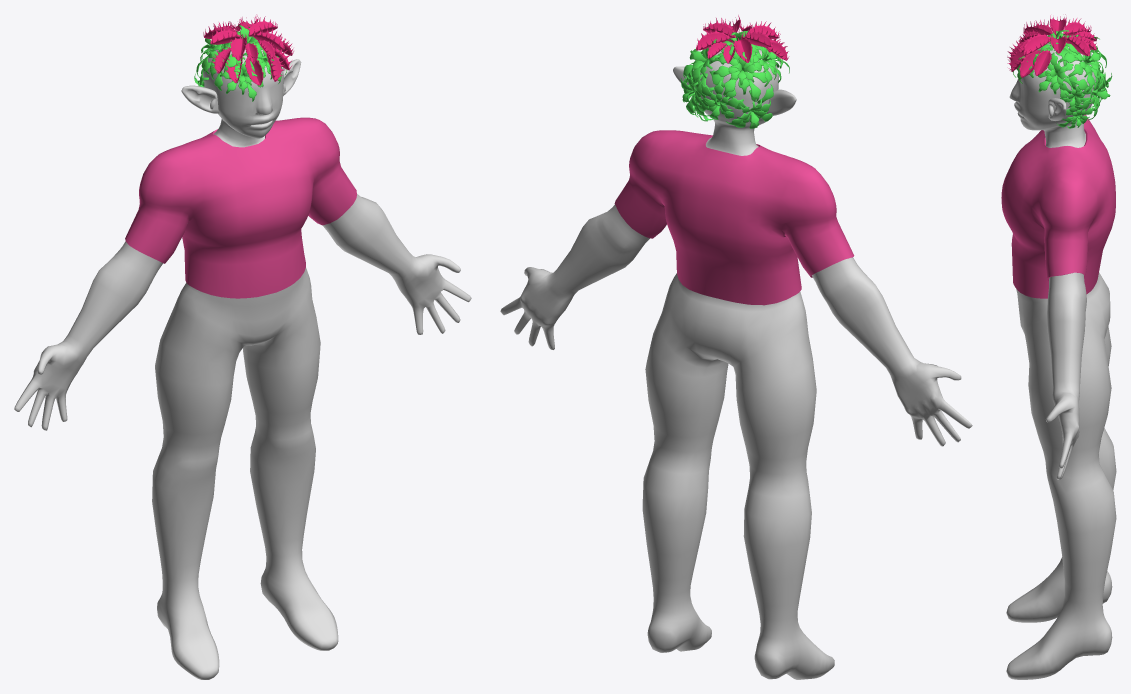
File: Plant-Spouce.fbx
3 renders of one model, left to right at view 1: azimuth 30°, elevation 25°; view 2: azimuth 150°, elevation 25°; view 3: azimuth 270°, elevation 25°, orthographic. The views are drawn at different scales.
Parts seen in each view (by area): view 1: Plant-Spouce, Plant-Spouce.001, Venus-Leaf.001, Venus-Stem.001; view 2: Plant-Spouce, Plant-Spouce.001, Venus-Stem.001, Venus-Leaf.001; view 3: Plant-Spouce, Plant-Spouce.001, Venus-Stem.001, Venus-Leaf.001, Venus-Stem.
Part boxes in pixels (bbox=[...]): Plant-Spouce: bbox=[14, 41, 471, 679]; Plant-Spouce.001: bbox=[125, 117, 356, 298]; Venus-Leaf.001: bbox=[203, 14, 293, 85]; Venus-Stem.001: bbox=[194, 27, 287, 101]; Plant-Spouce: bbox=[500, 42, 972, 679]; Plant-Spouce.001: bbox=[614, 130, 854, 305]; Venus-Stem.001: bbox=[681, 32, 789, 128]; Venus-Leaf.001: bbox=[696, 15, 789, 63]; Plant-Spouce: bbox=[1006, 43, 1116, 679]; Plant-Spouce.001: bbox=[1001, 114, 1115, 298]; Venus-Stem.001: bbox=[1013, 33, 1112, 128]; Venus-Leaf.001: bbox=[1007, 14, 1097, 77]; Venus-Stem: bbox=[1033, 30, 1076, 65].
Size of the model in its own units: 1.94 by 2.53 by 0.4231.
